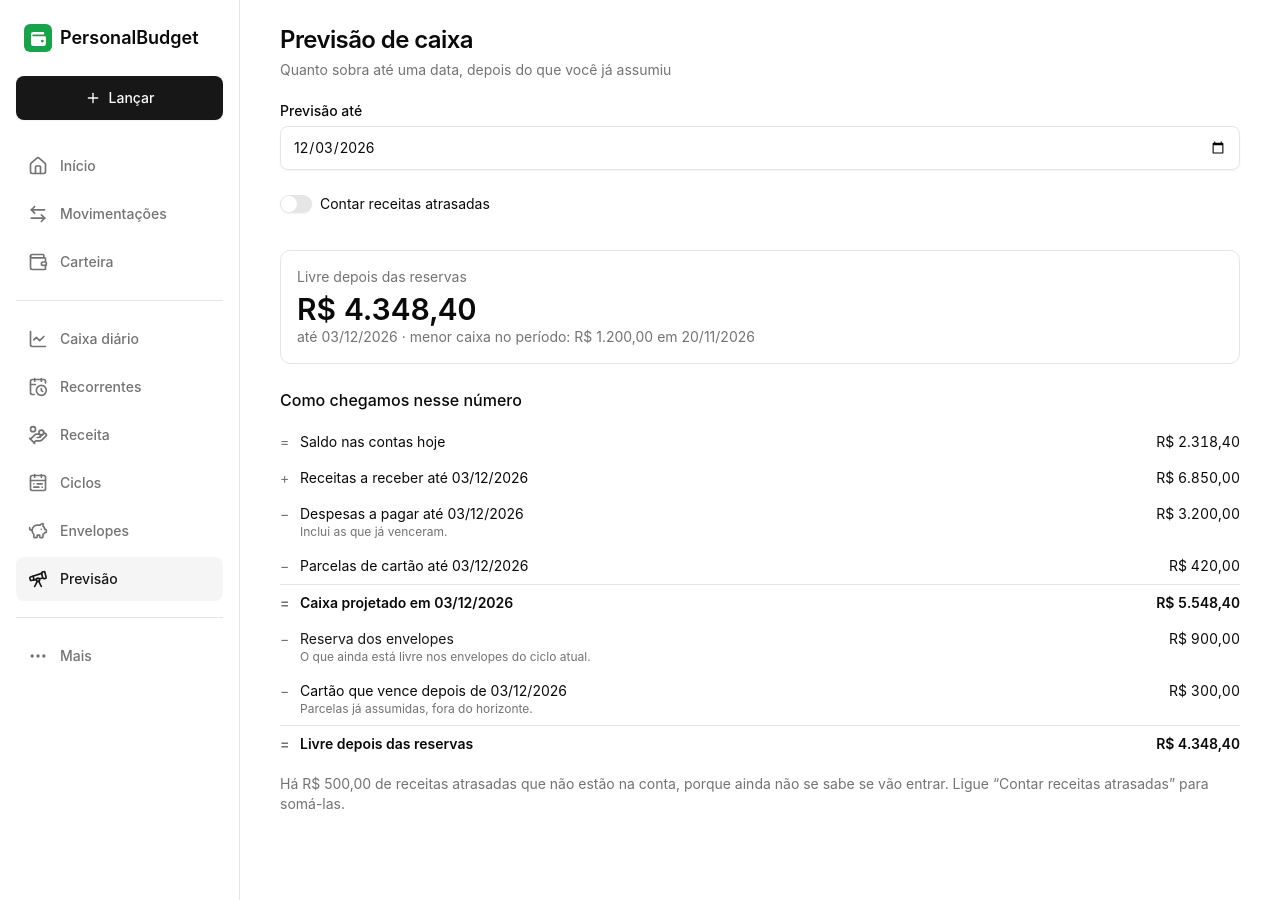
Test: Previsão de caixa › a página › should count the late income when asked, and add its line
The width and height of the screenshot is (1280, 900).
Expected: the element "Livre depois das reservas" is shown, [280,250,1240,364]
Click the switch named "Contar receitas atrasadas". click: (296, 204)
box: [280,195,312,213]
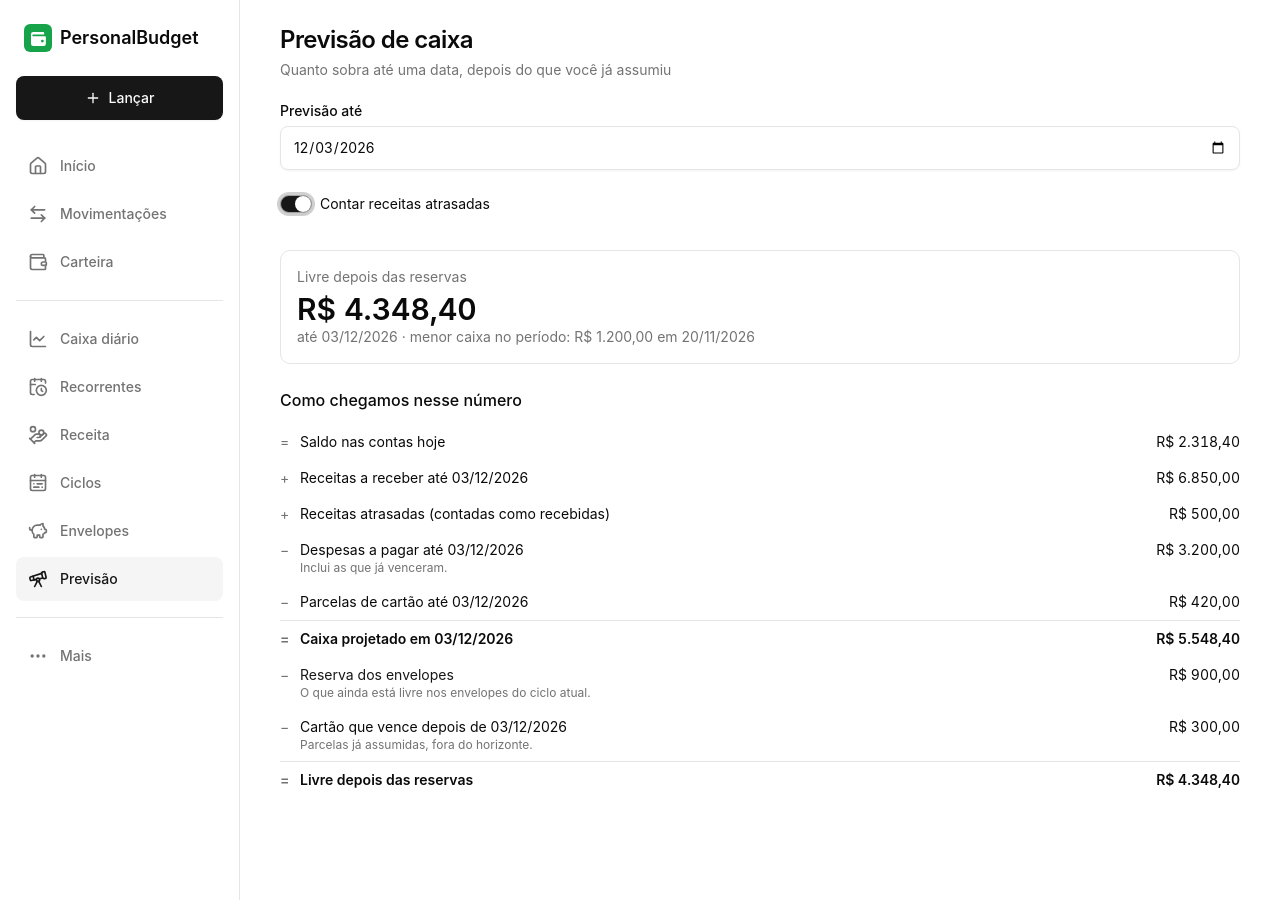
Expected: the row "+ Receitas atrasadas (contadas como recebidas) R$ 500,00" is shown, [280,496,1240,532]
Expected: the text "de receitas atrasadas que não estão na conta" is gone
